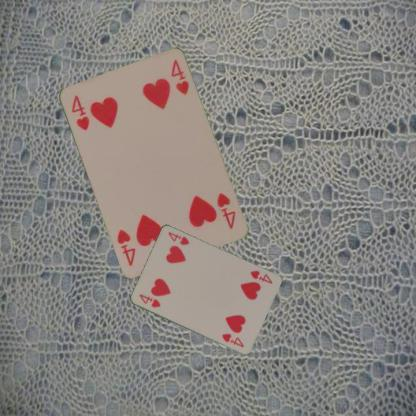4h: (214, 190, 237, 231), (68, 92, 91, 132), (136, 291, 162, 309), (248, 268, 274, 286)
